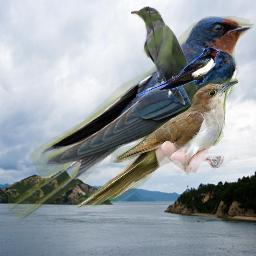Cuckoo: (75, 78, 238, 208), (131, 6, 218, 130)
Swallow: (8, 16, 254, 221), (135, 47, 220, 97)
